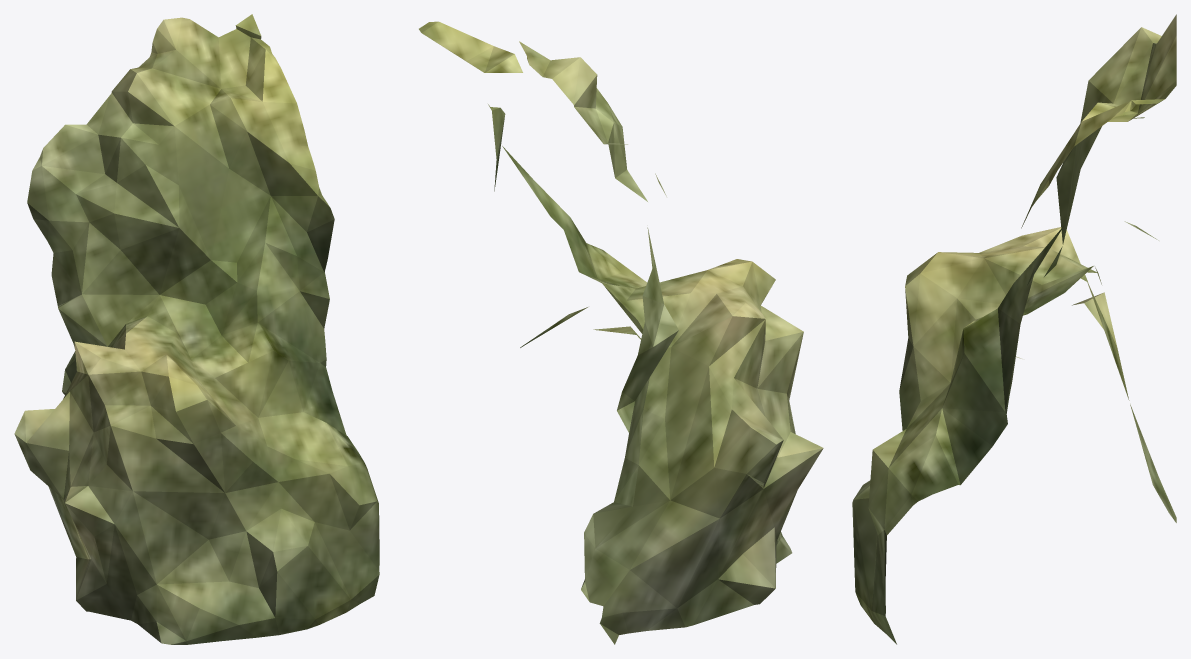
The picture shows the model from 3 angles, left to right: view 1: azimuth 30°, elevation 25°; view 2: azimuth 150°, elevation 25°; view 3: azimuth 270°, elevation 25°; orthographic projection. The views are drawn at different scales.
Size of the model in its own units: 3.32 by 5.86 by 2.96.
1 material, 1 textured.
